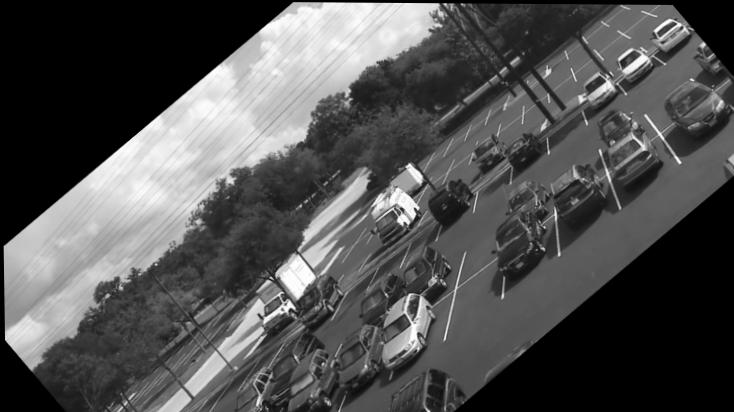empty: (441, 257, 496, 339), (545, 106, 589, 155), (636, 67, 684, 111), (333, 272, 371, 315), (213, 365, 250, 408), (369, 243, 407, 282), (464, 221, 490, 270), (476, 167, 507, 208), (191, 380, 229, 412), (248, 341, 281, 374), (558, 142, 592, 174), (596, 32, 632, 62), (344, 222, 374, 257), (404, 223, 435, 255), (548, 71, 577, 103), (622, 12, 656, 39), (322, 319, 352, 349), (574, 52, 604, 81), (520, 93, 547, 125), (614, 7, 645, 32), (443, 154, 470, 182), (418, 172, 444, 201), (567, 47, 597, 72), (523, 81, 548, 110), (590, 27, 620, 51), (563, 32, 588, 60), (636, 15, 662, 40), (547, 63, 571, 89), (426, 154, 450, 180), (499, 100, 522, 126), (580, 19, 608, 40), (450, 138, 474, 162), (498, 112, 521, 136), (476, 116, 497, 142), (487, 90, 505, 120), (425, 143, 446, 166), (547, 47, 567, 71), (466, 112, 484, 138), (602, 4, 625, 24), (446, 128, 464, 151), (452, 166, 476, 180), (520, 119, 538, 133), (648, 4, 673, 13), (669, 7, 685, 21), (638, 4, 653, 10)
occupied: (377, 291, 441, 371), (658, 73, 732, 142), (549, 161, 606, 235), (603, 122, 663, 192), (492, 207, 547, 282), (389, 367, 469, 412), (336, 323, 384, 398), (286, 347, 339, 412), (287, 273, 344, 332), (369, 183, 419, 247), (269, 331, 319, 391), (356, 268, 406, 324), (427, 177, 476, 234), (402, 244, 452, 295), (233, 365, 272, 412), (508, 179, 549, 219), (649, 17, 692, 55), (504, 130, 542, 172), (469, 132, 507, 172), (616, 46, 654, 82), (583, 70, 618, 109), (597, 109, 632, 140), (693, 40, 716, 71)
